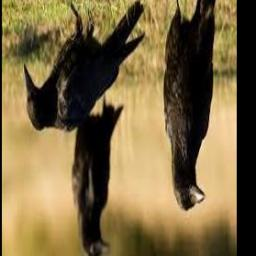Crow: (23, 0, 145, 133), (163, 0, 216, 212), (72, 90, 124, 256)
